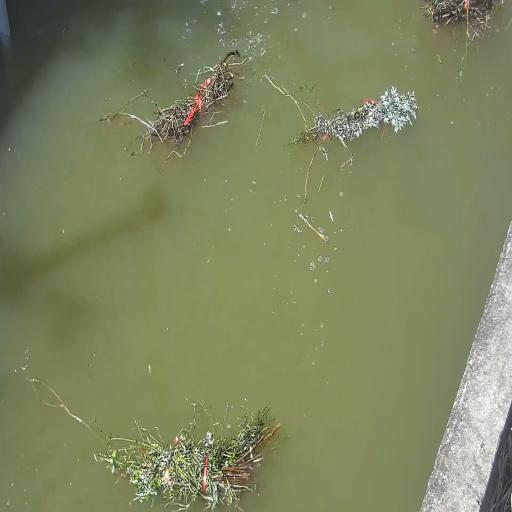twig: (88, 391, 278, 512), (130, 58, 240, 156), (290, 86, 416, 152), (425, 0, 505, 56)
